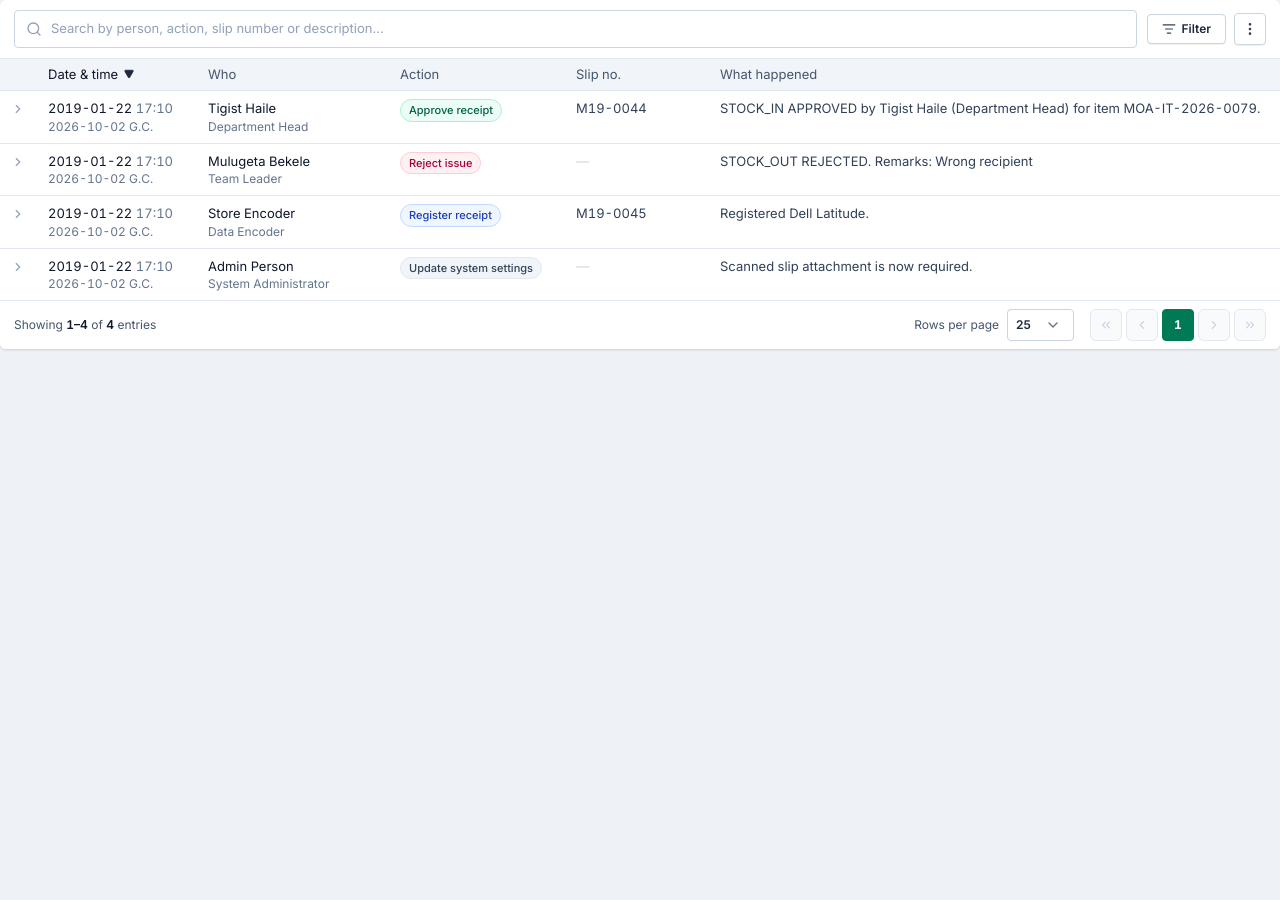
Test: Audit log › opens a row to show what changed, and closes it again
Click the button named "Show details of Update system settings by Admin Person": click(18, 266) x1=8 y1=256 x2=28 y2=276
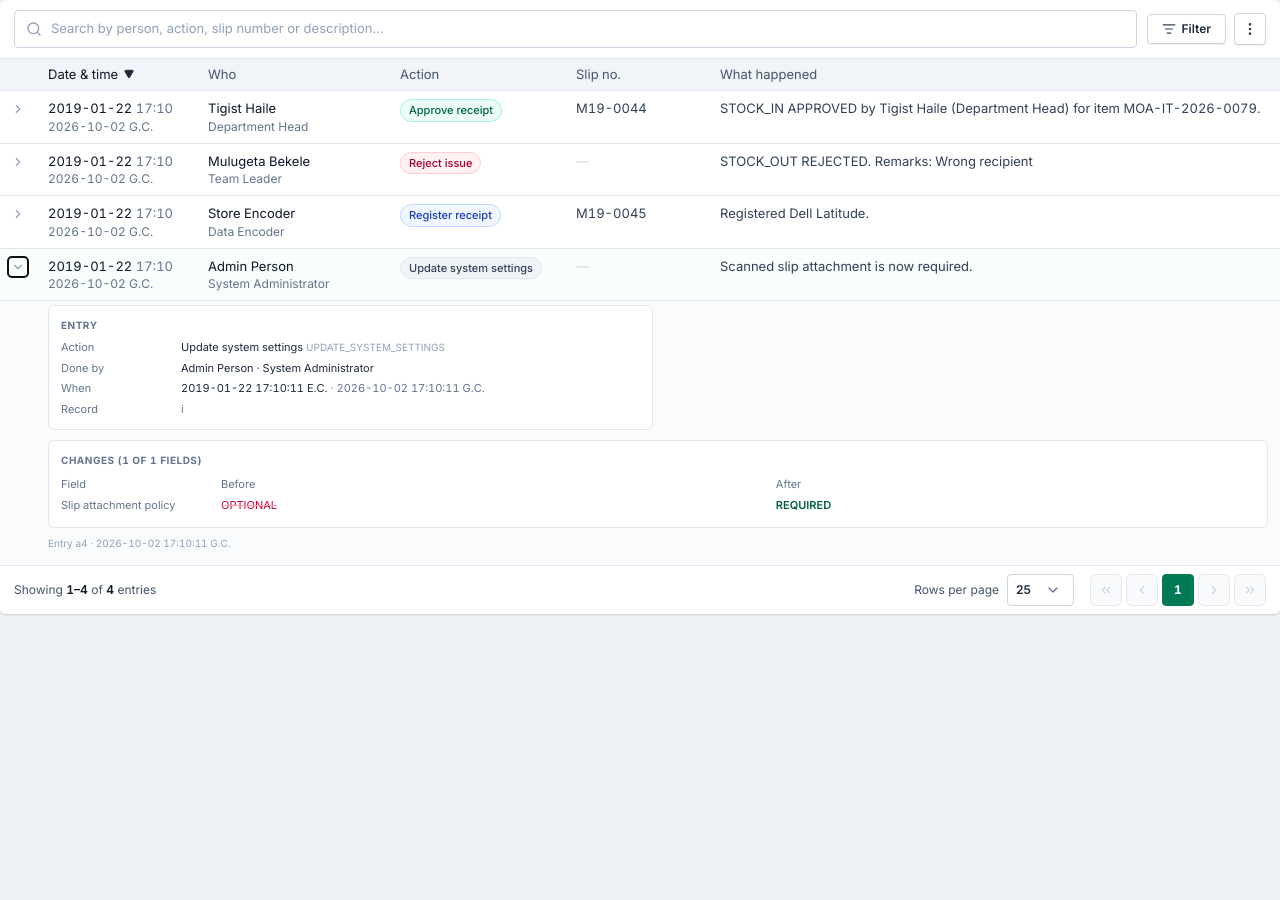
Result: the heading "Changes (1 of 1 fields)" is shown at x1=61 y1=454 x2=202 y2=466
Result: the column heading "Before" is shown at x1=221 y1=474 x2=776 y2=494
Result: the column heading "After" is shown at x1=776 y1=474 x2=1255 y2=494
Click the button named "Hide details of Update system settings by Admin Person": click(18, 266) x1=8 y1=256 x2=28 y2=276
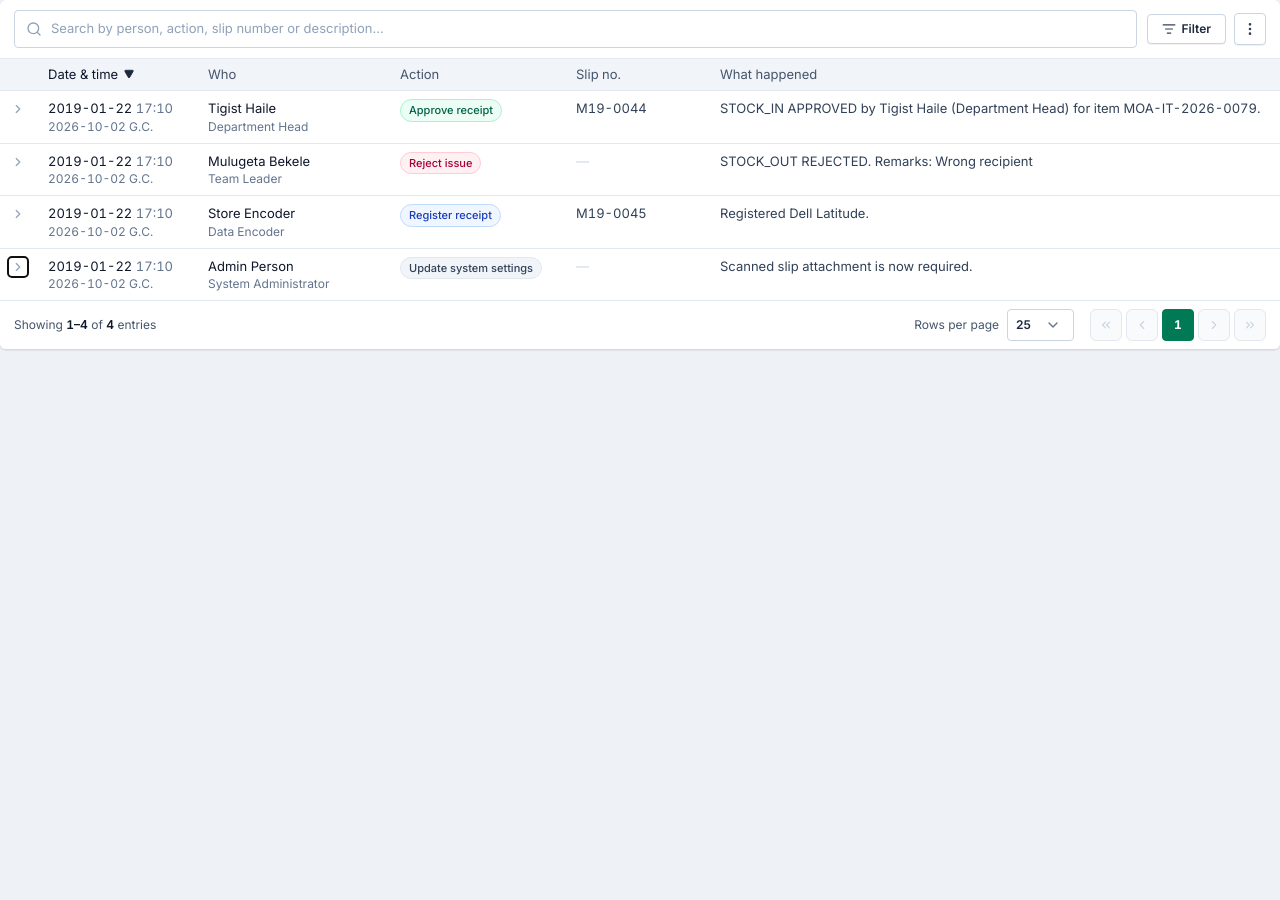
Result: the text "OPTIONAL" is gone
An entry without recorded values still says who did what, when, and to which record
Click the button named "Show details of Register receipt by Store Encoder": click(18, 214) x1=8 y1=204 x2=28 y2=224
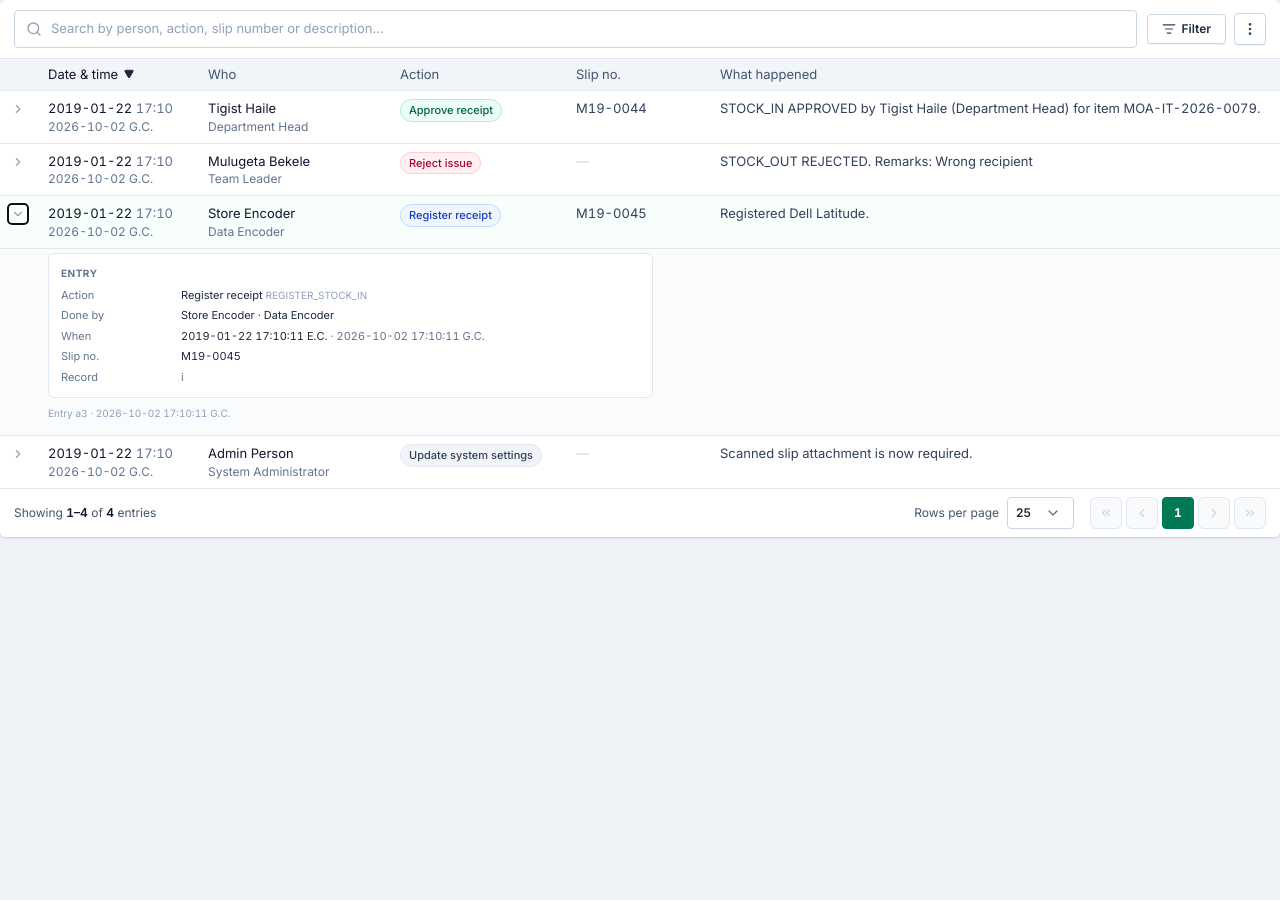
Expected: the heading "Changes" is not shown
Result: the text "REGISTER_STOCK_IN" is shown at x1=266 y1=288 x2=367 y2=300
Result: the text "Store Encoder · Data Encoder" is shown at x1=181 y1=307 x2=334 y2=324
